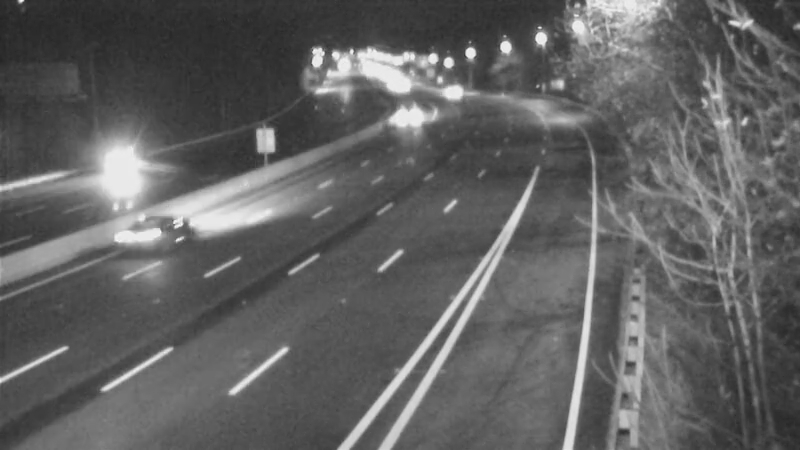vehicle: (99, 197, 179, 277), (80, 126, 160, 206), (431, 68, 481, 118), (383, 91, 433, 141)
